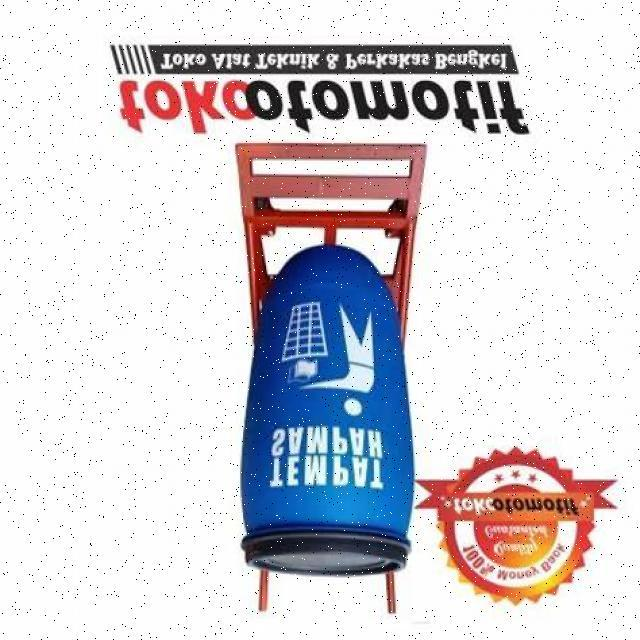garbage container: (232, 249, 426, 613)
